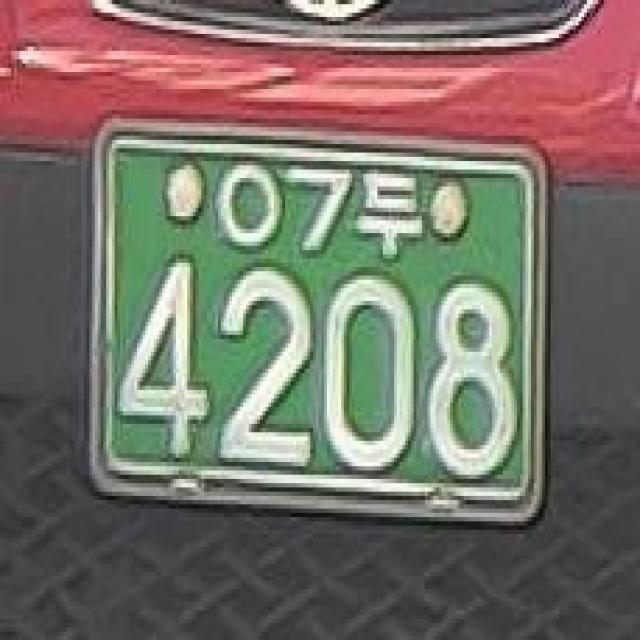illegal_plate: (72, 106, 560, 544)
